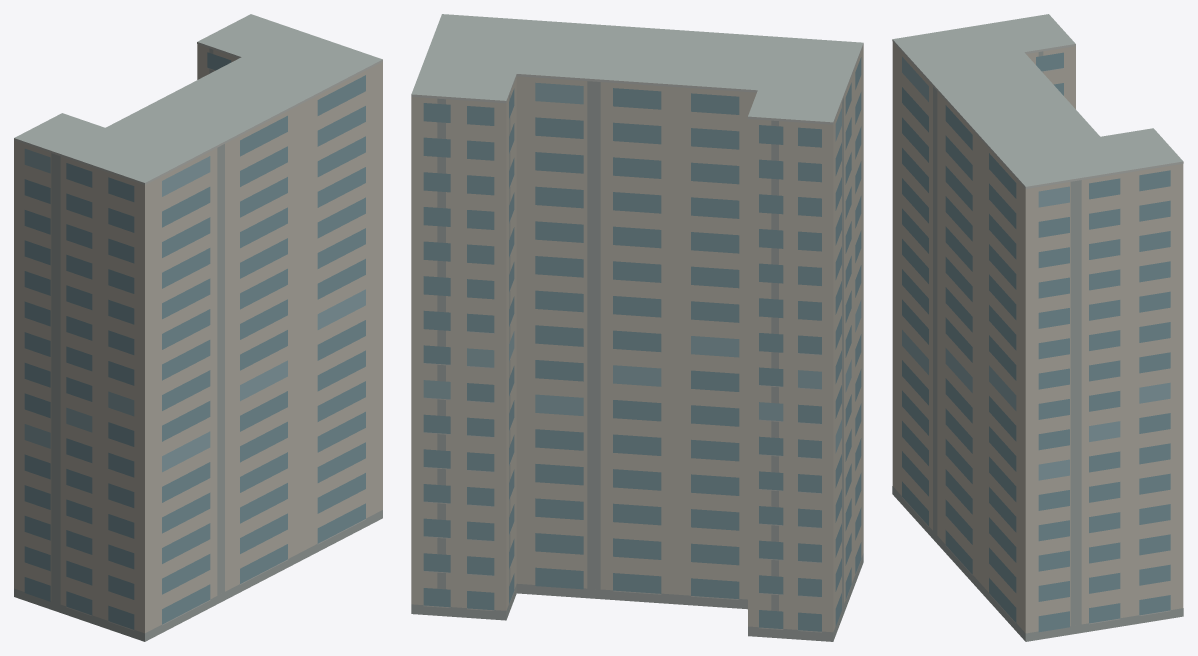
Rendered from residential-52166782-cb40-4df1-8ca4-3fee9d074563.glb.
The picture shows the model from 3 angles, left to right: view 1: azimuth 30°, elevation 25°; view 2: azimuth 150°, elevation 25°; view 3: azimuth 270°, elevation 25°; orthographic projection. The views are drawn at different scales.
Visible parts, largest first — view 1: residential-52166782-cb40-4df1-8ca4-3fee9d074563.tmp; view 2: residential-52166782-cb40-4df1-8ca4-3fee9d074563.tmp; view 3: residential-52166782-cb40-4df1-8ca4-3fee9d074563.tmp.
Boxes of the visible parts, box(x1,y1,x2,y2) form: residential-52166782-cb40-4df1-8ca4-3fee9d074563.tmp: box(14, 14, 382, 641); residential-52166782-cb40-4df1-8ca4-3fee9d074563.tmp: box(411, 14, 863, 641); residential-52166782-cb40-4df1-8ca4-3fee9d074563.tmp: box(892, 14, 1183, 641).
Size of the model in its own units: 41.56 by 51 by 29.57.
